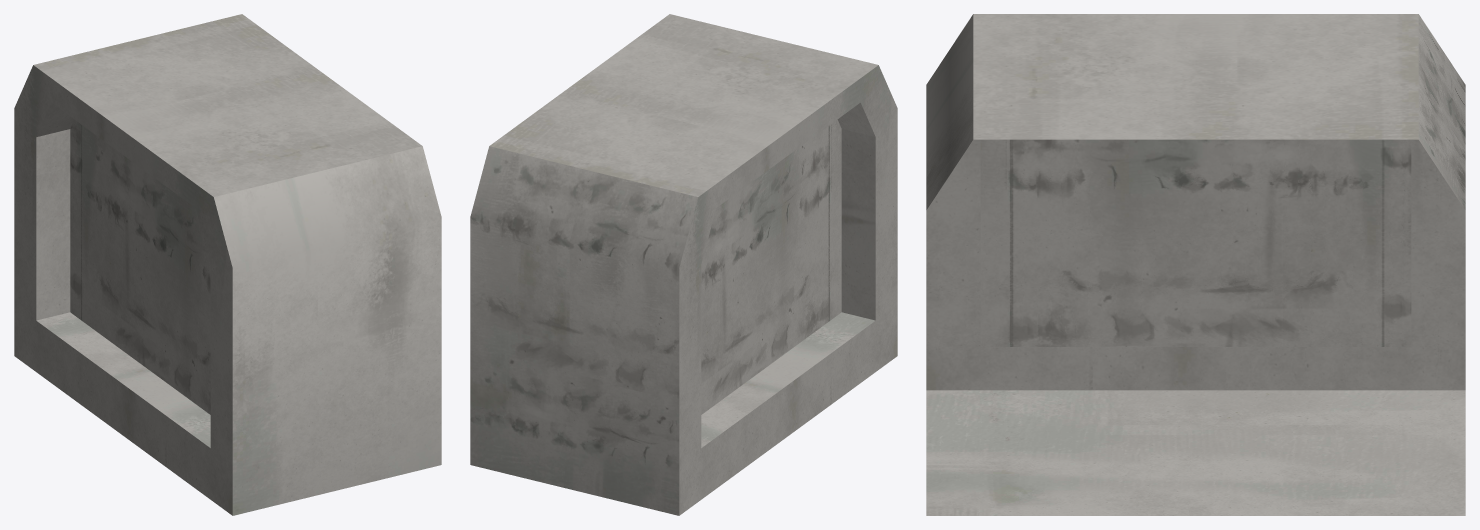
Rendered from wall_07.fbx.
3 views of the same model, side by side, from view 1: azimuth 30°, elevation 25°; view 2: azimuth 150°, elevation 25°; view 3: azimuth 270°, elevation 25° (orthographic). The views are drawn at different scales.
Parts seen in each view (by area): view 1: Box069; view 2: Box069; view 3: Box069.
Boxes of the visible parts, x1,y1,x2,y2 form: Box069: (14,14,441,515); Box069: (470,14,897,515); Box069: (926,14,1465,515).
Size of the model in its own units: 293 by 408 by 530.
